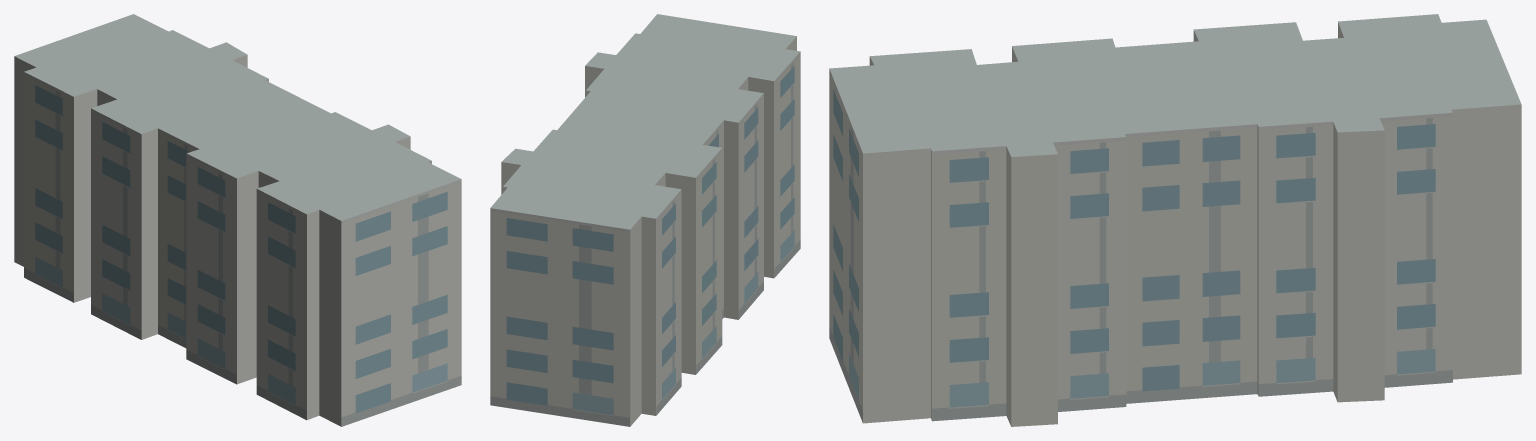
File: survey-upis-32677783.glb
3 views of the same model, side by side, from view 1: azimuth 30°, elevation 25°; view 2: azimuth 150°, elevation 25°; view 3: azimuth 270°, elevation 25° (orthographic). The views are drawn at different scales.
Visible parts, largest first — view 1: survey-upis-32677783.tmp; view 2: survey-upis-32677783.tmp; view 3: survey-upis-32677783.tmp.
Part boxes in pixels (left/top/right/bottom): survey-upis-32677783.tmp: left=14, top=14, right=461, bottom=426; survey-upis-32677783.tmp: left=490, top=14, right=800, bottom=426; survey-upis-32677783.tmp: left=829, top=14, right=1521, bottom=426.
Bounding box in the file's own units: 20.47 × 18 × 41.85.
